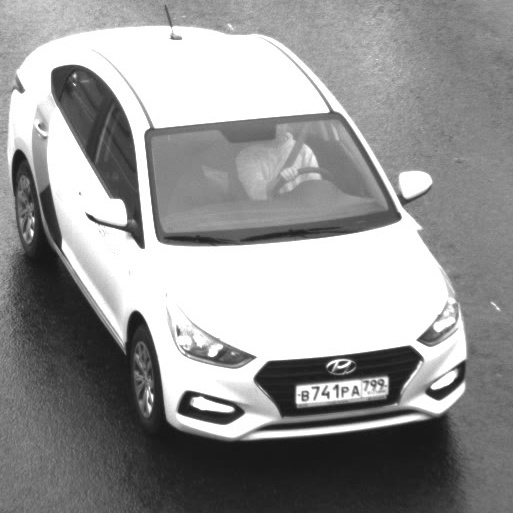plate: (281, 363, 399, 414)
